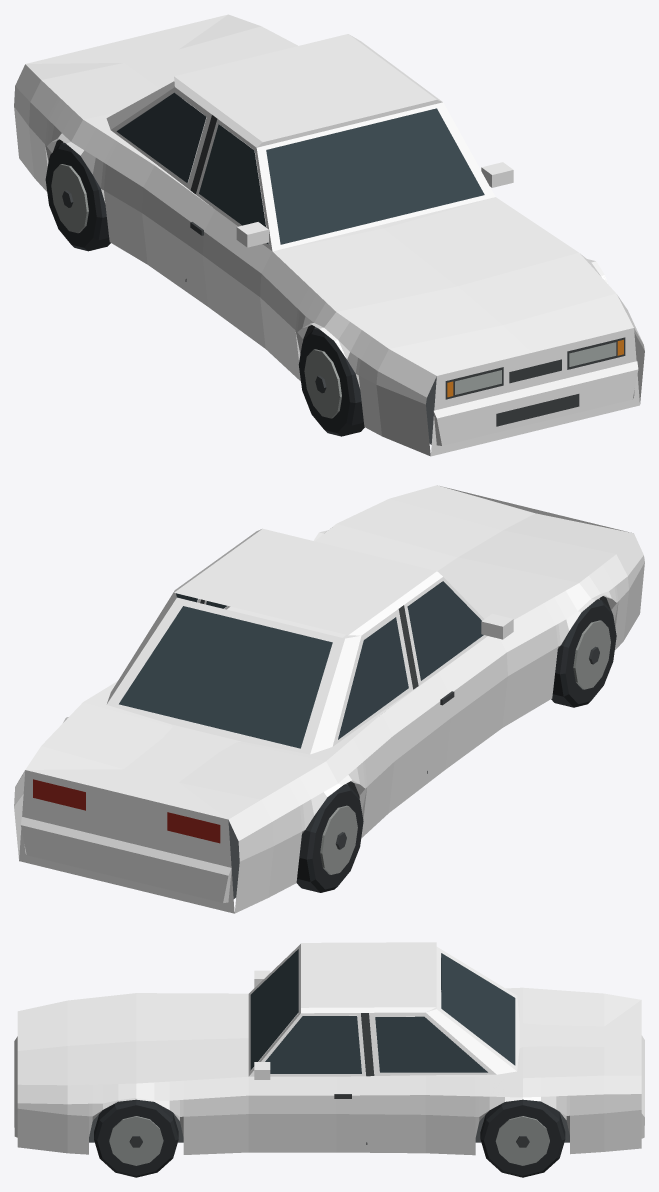
Rendered from hayase_ryujin.glb.
The picture shows the model from 3 angles, top to bottom: view 1: azimuth 30°, elevation 25°; view 2: azimuth 150°, elevation 25°; view 3: azimuth 270°, elevation 25°; orthographic projection. The views are drawn at different scales.
Parts seen in each view (by area): view 1: hayase_ryujin; view 2: hayase_ryujin; view 3: hayase_ryujin.
Part boxes in pixels (<box>): hayase_ryujin: <box>14,14,644,456</box>; hayase_ryujin: <box>14,485,644,913</box>; hayase_ryujin: <box>14,942,644,1177</box>.
Bounding box in the file's own units: 1.8 × 1.26 × 4.65.
Materials: 8 (1 with a texture image).
